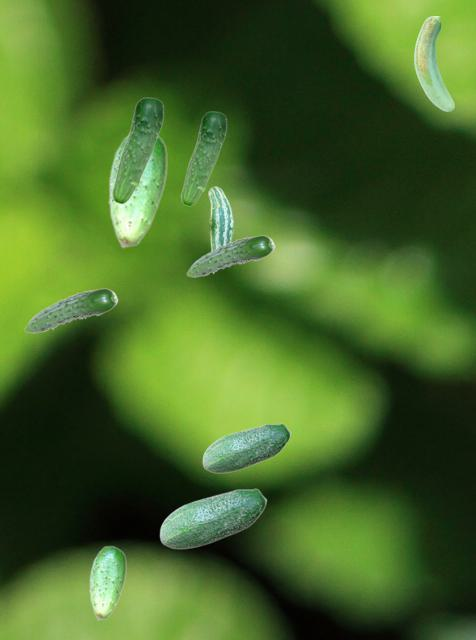cucumber: (108, 132, 166, 247), (159, 488, 266, 548), (111, 97, 163, 203), (180, 111, 226, 205), (202, 423, 290, 472), (24, 288, 117, 332), (414, 16, 453, 110), (186, 235, 274, 276), (89, 545, 125, 619), (208, 186, 232, 250)
